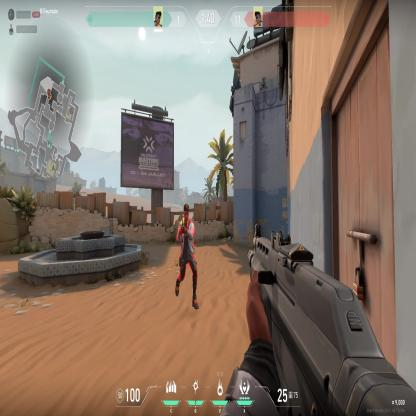enemy: (174, 201, 199, 310)
